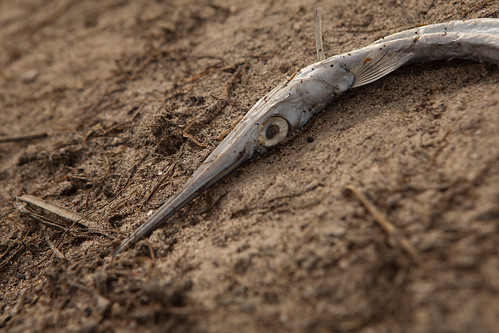animal: (120, 16, 484, 256)
beach: (6, 1, 499, 331)
